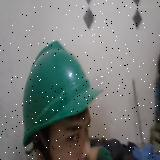Helmet: (23, 40, 103, 142)
